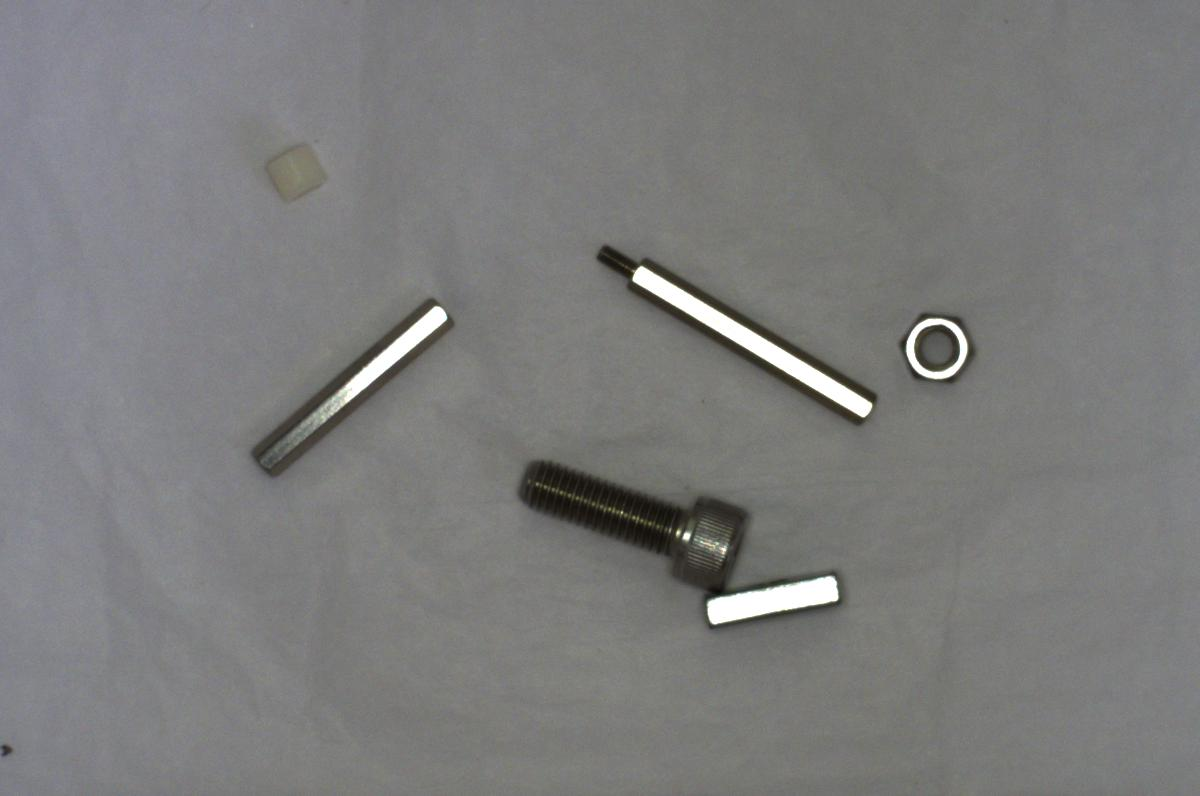Double hexagonal column: (247, 289, 459, 485)
Hexagon nut: (892, 306, 980, 389)
Hexagon screw: (511, 453, 750, 594)
Hexagonal steel column: (590, 238, 879, 428)
Plastic cushion pillar: (261, 132, 334, 208)
Rectangular nut: (702, 566, 848, 633)
